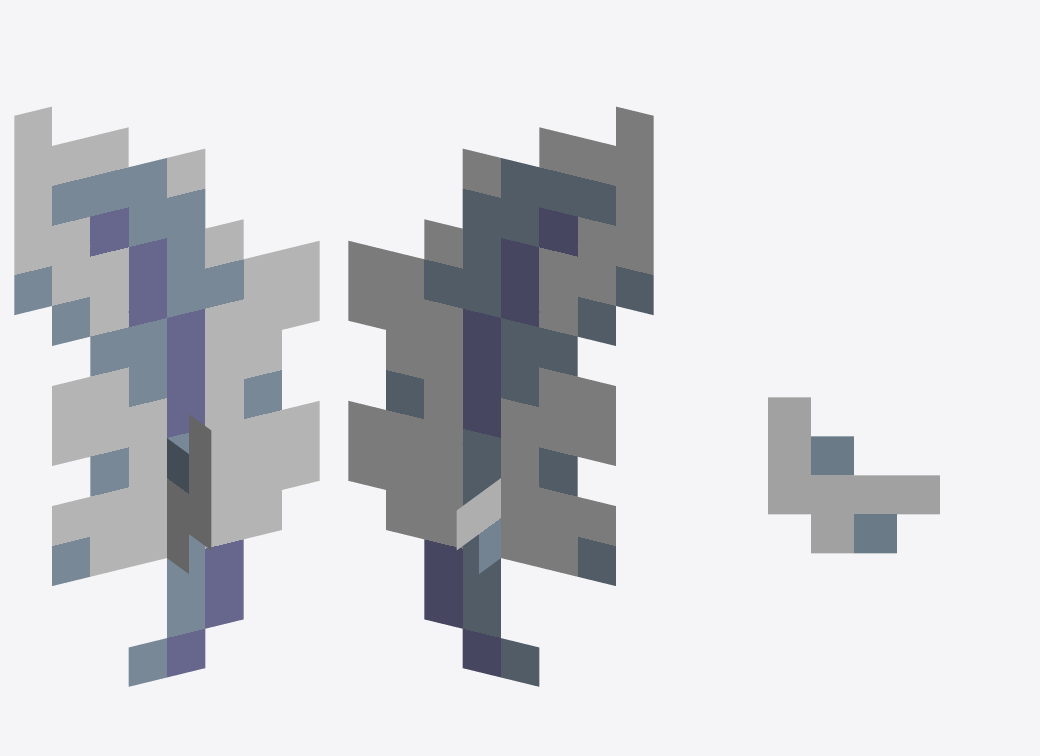
The model's file is feather.gltf.
3 renders of one model, left to right at view 1: azimuth 30°, elevation 25°; view 2: azimuth 150°, elevation 25°; view 3: azimuth 270°, elevation 25°, orthographic. The views are drawn at different scales.
Parts seen in each view (by area): view 1: cube (×2); view 2: cube (×2); view 3: cube.
Part boxes in pixels (x1,y1,x2,y2): cube (×2): (14,106,319,686); cube (×2): (348,106,653,686); cube: (768,397,939,553).
Size of the model in its own units: 0.5 by 0.9375 by 0.5.
1 material, 1 textured.
